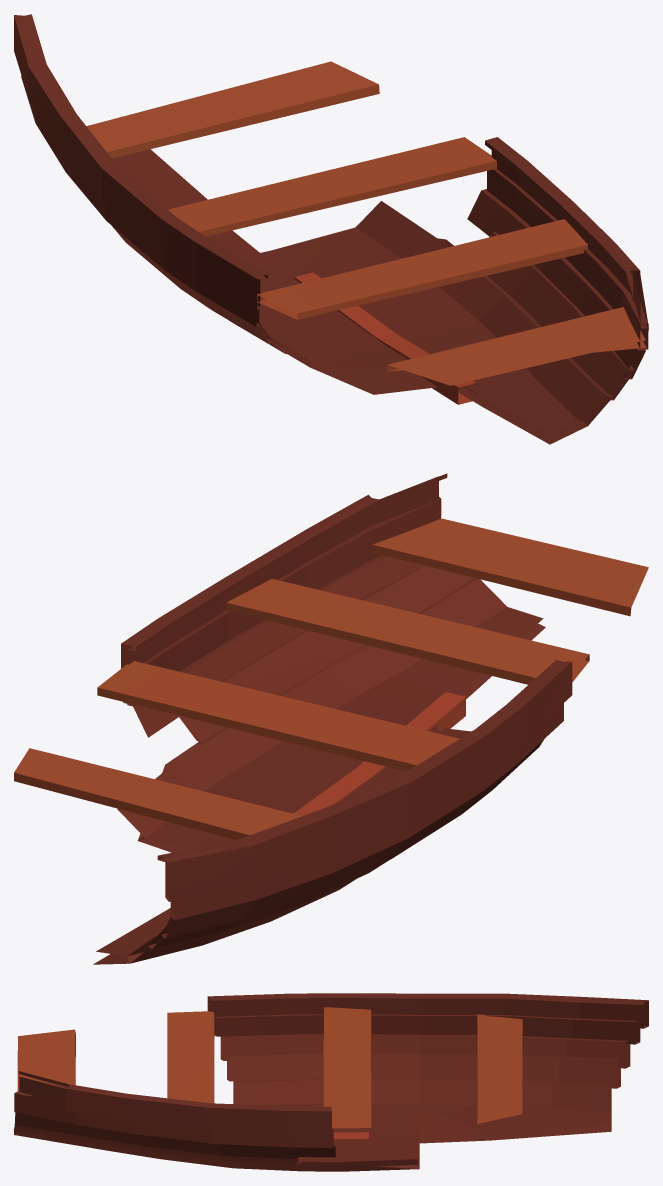
Rendered from BoatPart1.fbx.
3 views of the same model, one above another, from view 1: azimuth 30°, elevation 25°; view 2: azimuth 150°, elevation 25°; view 3: azimuth 270°, elevation 25° (orthographic). The views are drawn at different scales.
Parts seen in each view (by area): view 1: Boat; view 2: Boat; view 3: Boat.
Part boxes in pixels (<box>): Boat: <box>14,14,648,444</box>; Boat: <box>14,473,648,964</box>; Boat: <box>14,993,648,1171</box>.
Bounding box in the file's own units: 143 × 64.14 × 325.
